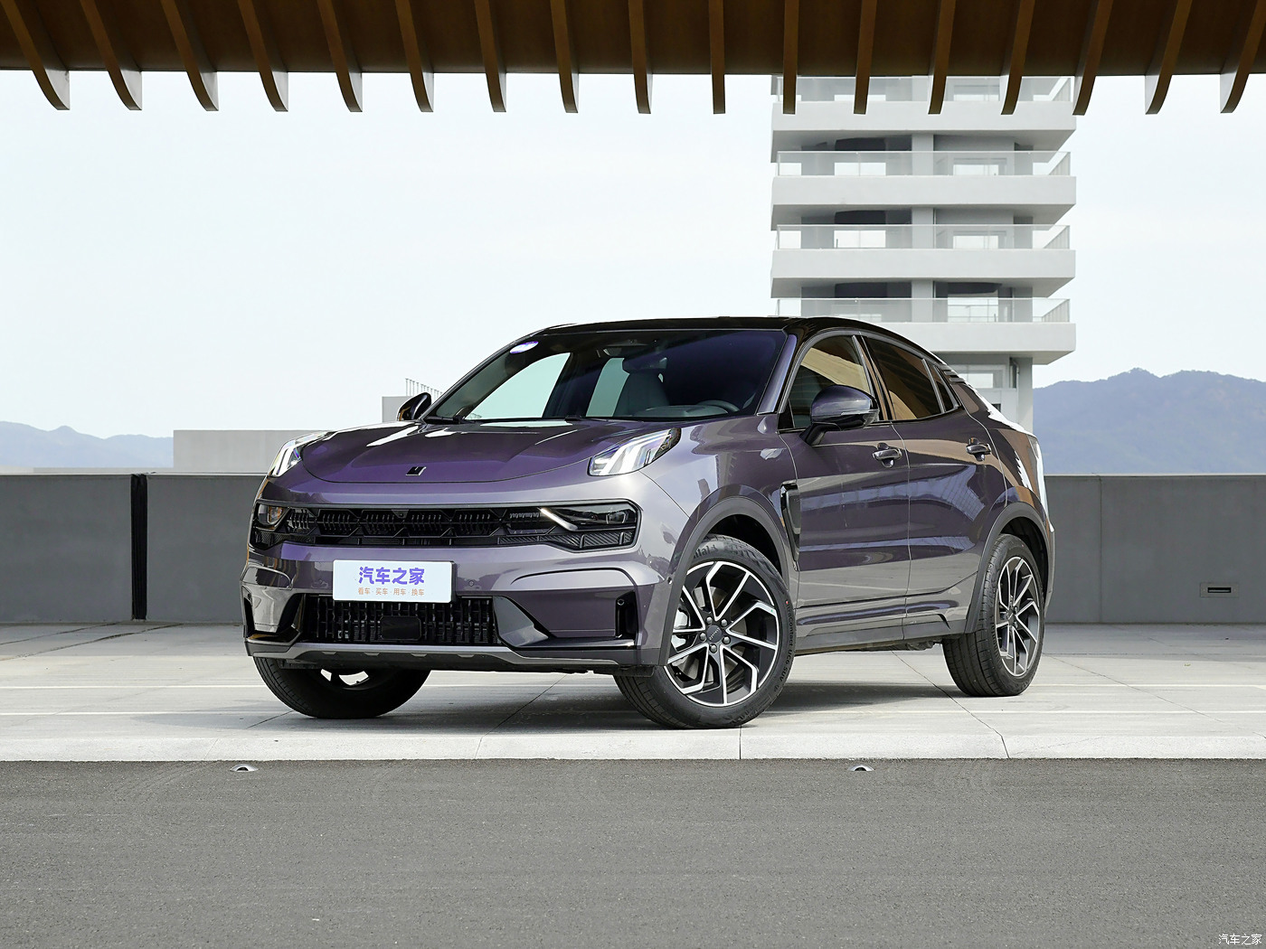LINK&CO: (406, 466, 425, 475)
